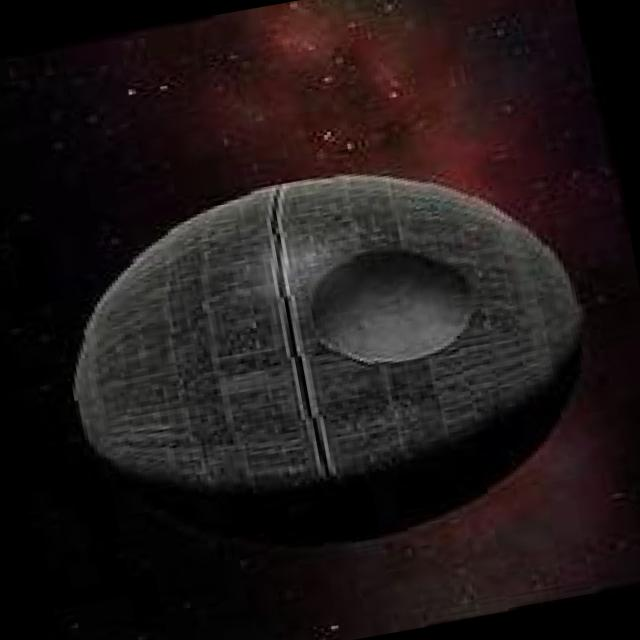Death Star: (45, 129, 610, 586)
